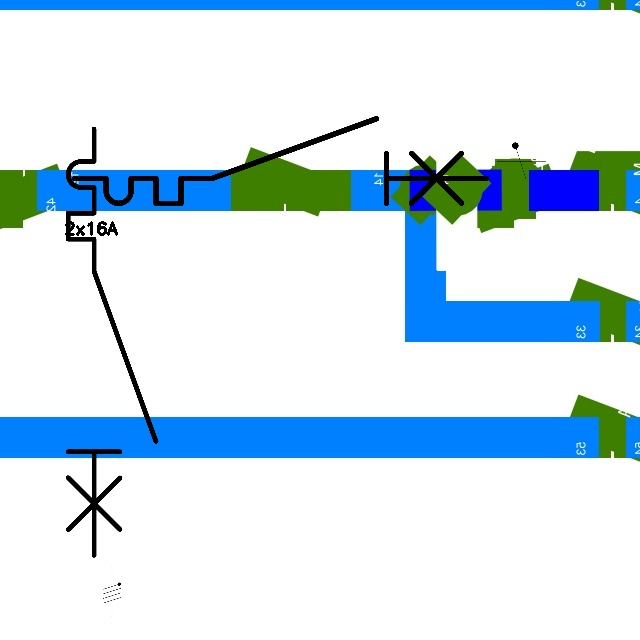interruptor_termomagnetico: (57, 118, 166, 566), (64, 108, 497, 214)
